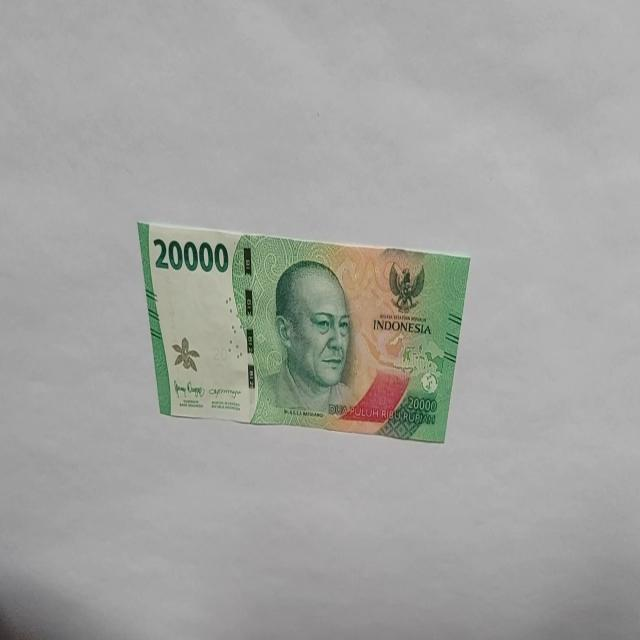dua puluh ribu rupiah: (136, 218, 472, 442)
